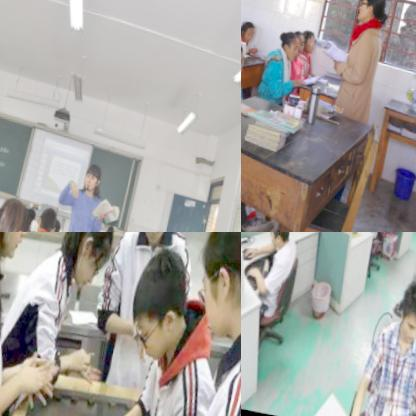head: (123, 236, 199, 359), (189, 232, 241, 342), (55, 232, 119, 299), (393, 274, 416, 346), (0, 192, 28, 232), (355, 0, 391, 27), (277, 29, 301, 61), (36, 201, 60, 232), (262, 232, 295, 251), (82, 161, 100, 192), (300, 25, 318, 50), (291, 27, 307, 54), (241, 35, 249, 81), (241, 17, 256, 41), (103, 220, 118, 232)
